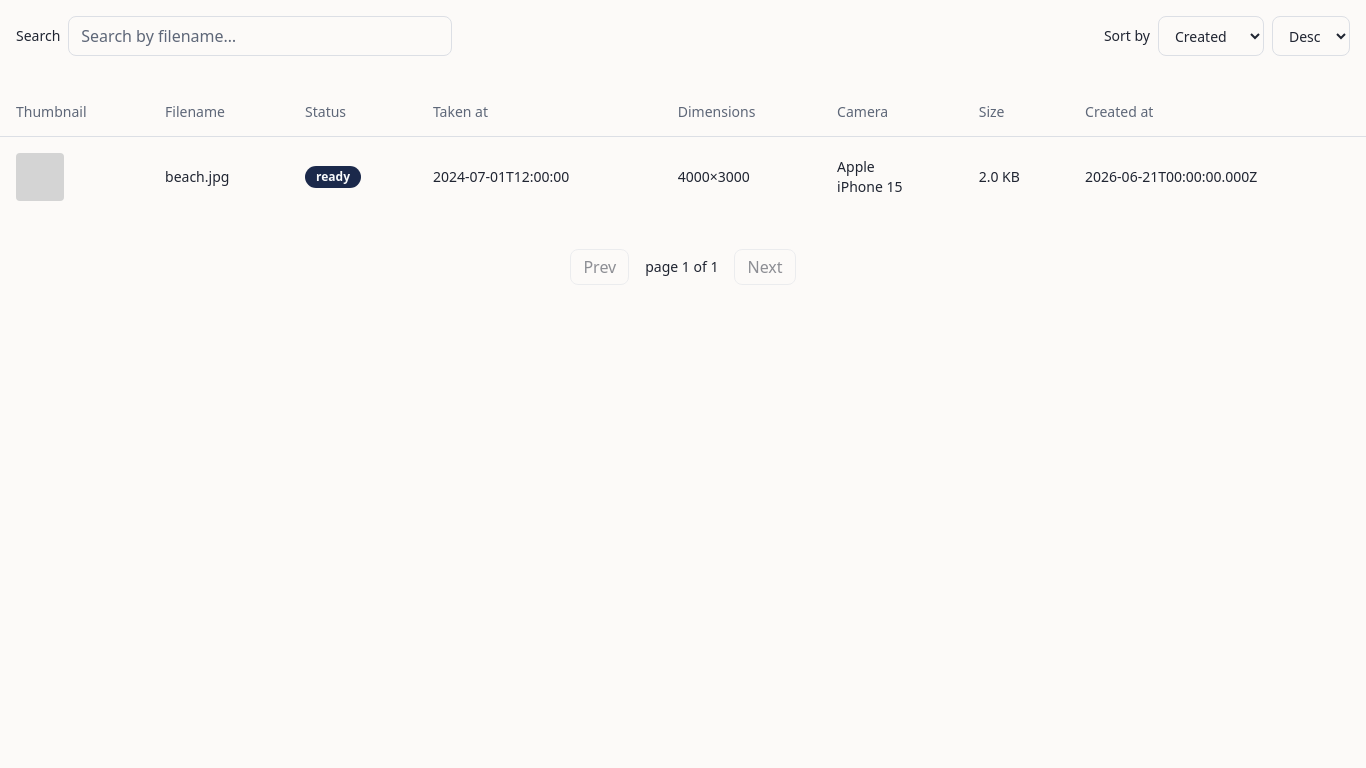
PhotoGallery (session 011) › shows an error in the detail dialog when getPhoto fails
The width and height of the screenshot is (1366, 768).
Click the text "beach.jpg" at [219, 176], box top-left (149, 136), bottom-right (289, 216)
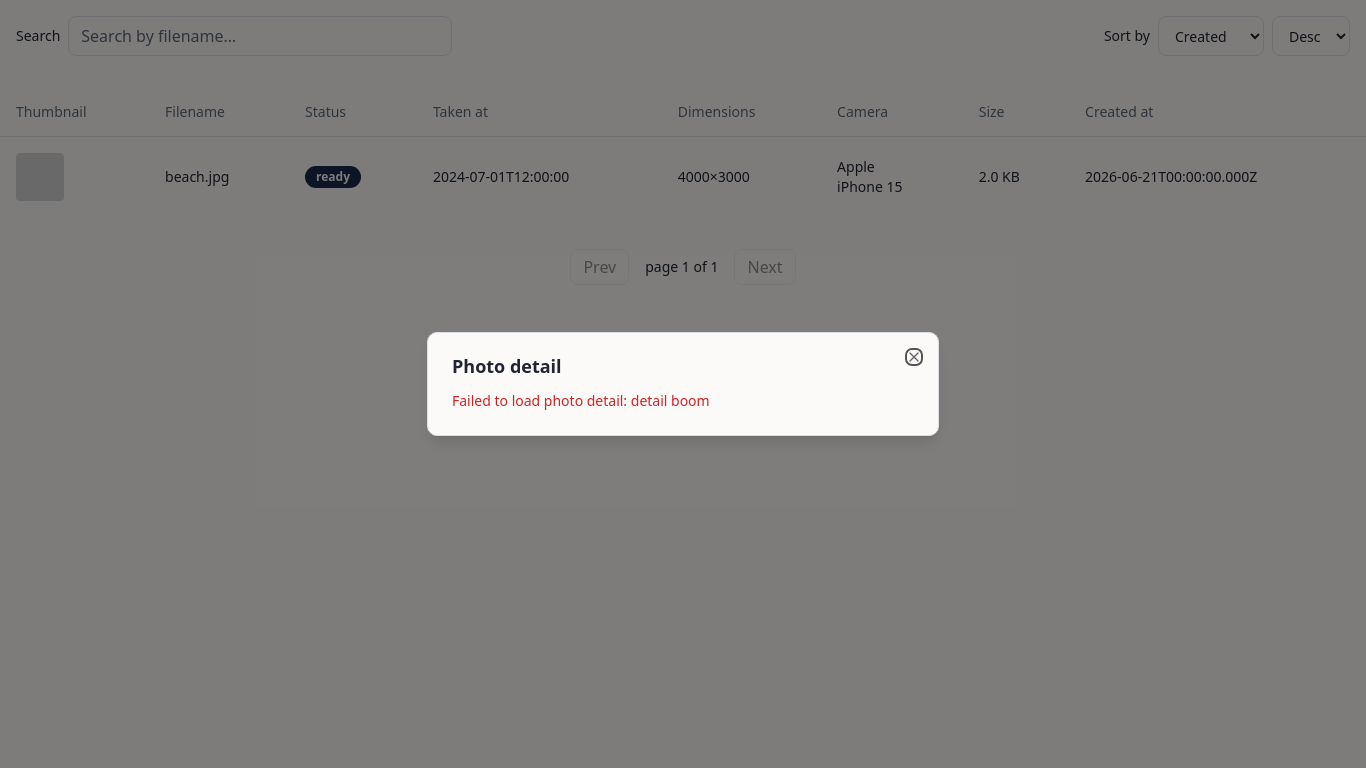
Expected: the text "Failed to load photo detail: detail boom" is shown, top-left (452, 391), bottom-right (710, 410)
